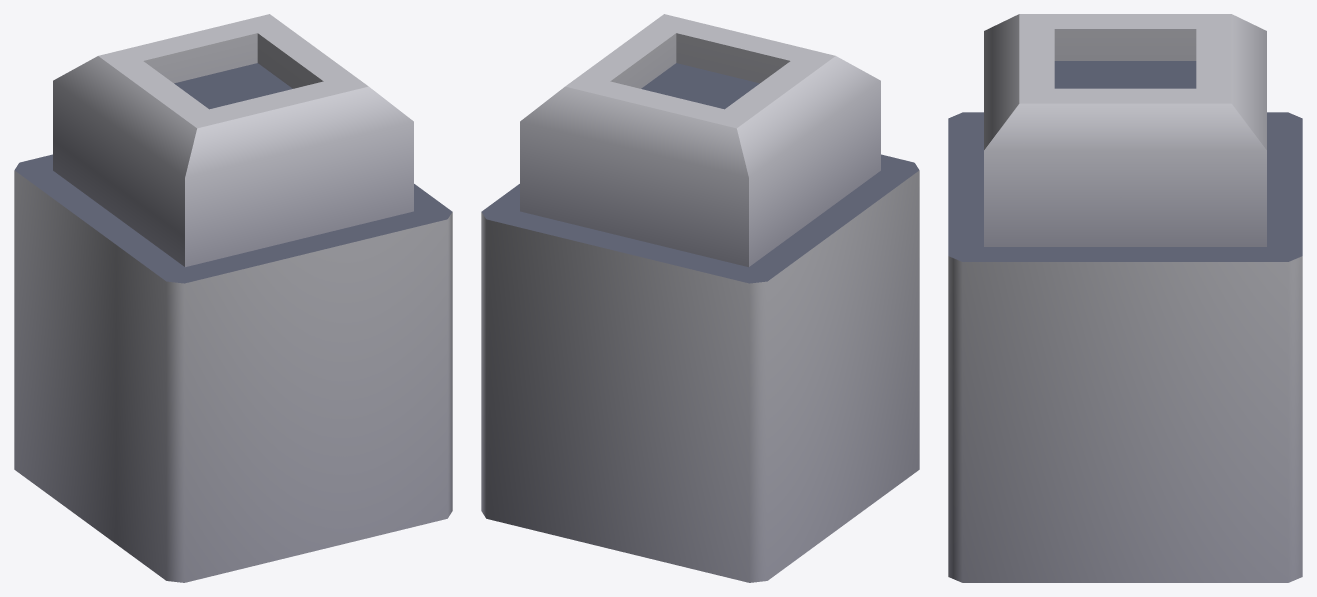
File: low-detail-building-n.glb
The picture shows the model from 3 angles, left to right: view 1: azimuth 30°, elevation 25°; view 2: azimuth 150°, elevation 25°; view 3: azimuth 270°, elevation 25°; orthographic projection. The views are drawn at different scales.
Parts seen in each view (by area): view 1: low-detail-building-n; view 2: low-detail-building-n; view 3: low-detail-building-n.
Boxes of the visible parts, x1=… form: low-detail-building-n: x1=14, y1=14, x2=452, y2=582; low-detail-building-n: x1=481, y1=14, x2=919, y2=582; low-detail-building-n: x1=948, y1=14, x2=1302, y2=582.
Size of the model in its own units: 0.5 by 0.7 by 0.5.
